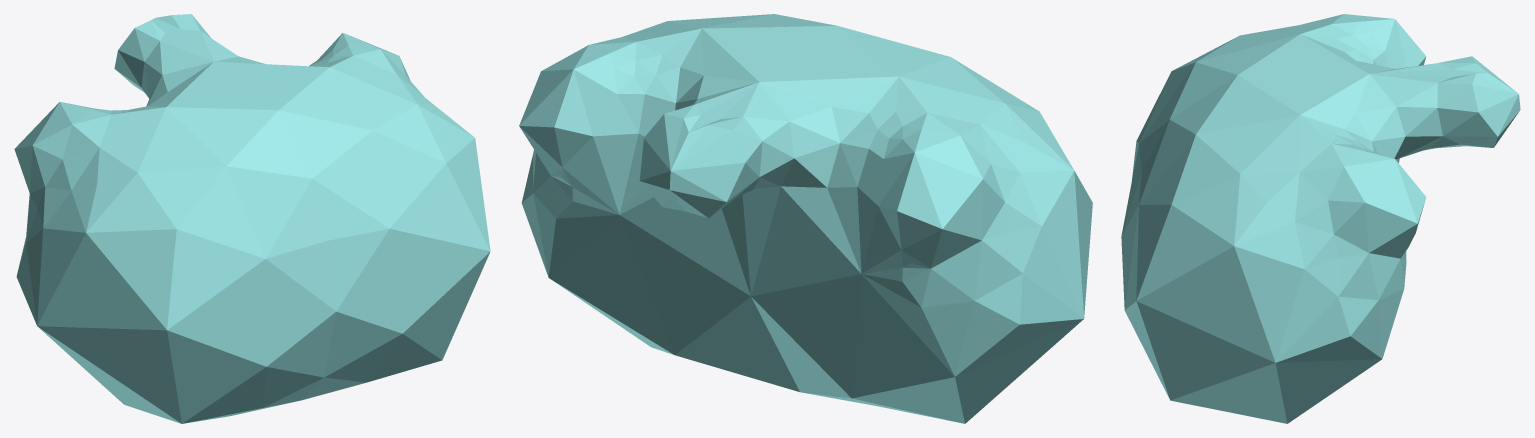
The model's file is new lt blue white blood cell.fbx.
The picture shows the model from 3 angles, left to right: view 1: azimuth 30°, elevation 25°; view 2: azimuth 150°, elevation 25°; view 3: azimuth 270°, elevation 25°; orthographic projection. The views are drawn at different scales.
Visible parts, largest first — view 1: Smaller_White_Blood_cell2:Mesh; view 2: Smaller_White_Blood_cell2:Mesh; view 3: Smaller_White_Blood_cell2:Mesh.
Part boxes in pixels (<box>): Smaller_White_Blood_cell2:Mesh: <box>14,14,490,423</box>; Smaller_White_Blood_cell2:Mesh: <box>519,14,1092,423</box>; Smaller_White_Blood_cell2:Mesh: <box>1121,14,1520,423</box>.
Size of the model in its own units: 9.06 by 5.7 by 6.93.
